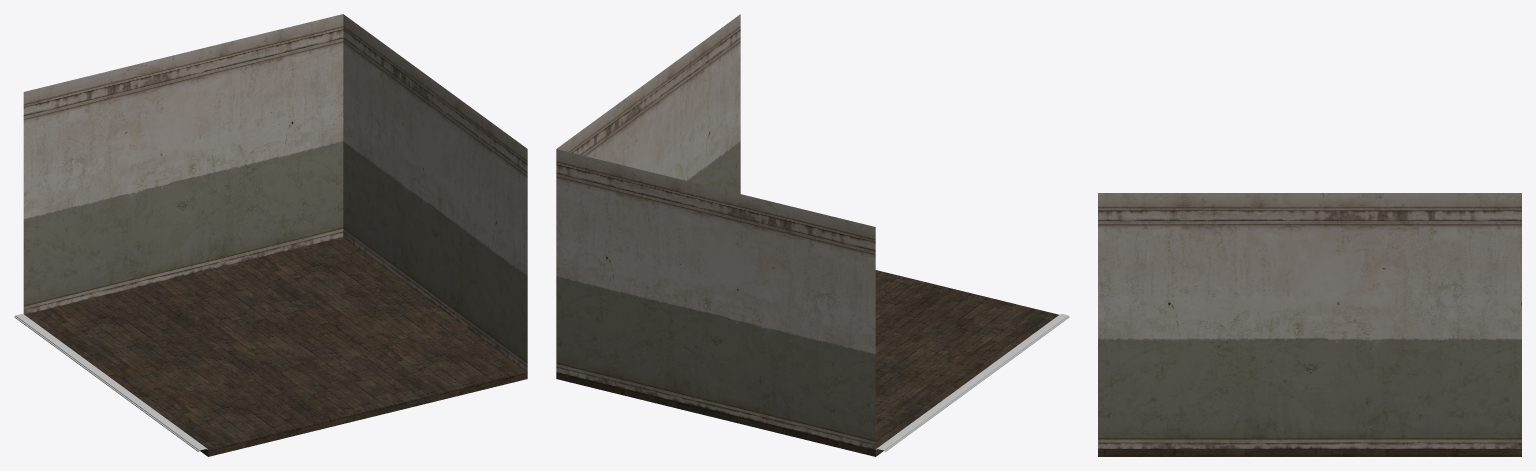
Rendered from hallway_end_corner_left.fbx.
3 renders of one model, left to right at view 1: azimuth 30°, elevation 25°; view 2: azimuth 150°, elevation 25°; view 3: azimuth 270°, elevation 25°, orthographic. The views are drawn at different scales.
Visible parts, largest first — view 1: hallway_end_corner_left; view 2: hallway_end_corner_left; view 3: hallway_end_corner_left.
Boxes of the visible parts, x1,y1,x2,y2 form: hallway_end_corner_left: [14, 14, 527, 456]; hallway_end_corner_left: [556, 14, 1069, 456]; hallway_end_corner_left: [1098, 193, 1521, 456].
Size of the model in its own units: 618 by 412 by 600.
